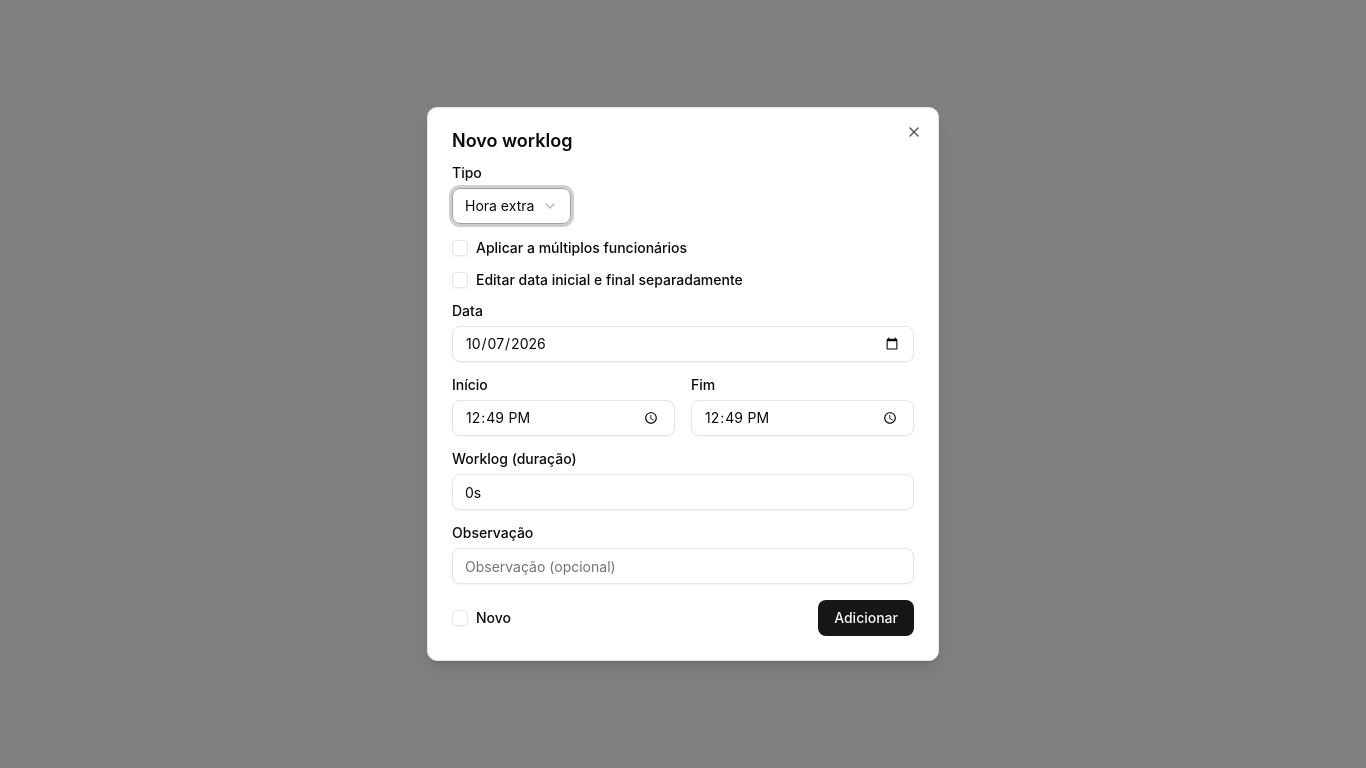
WorkLogFormModal › advanced mode (datetime-local inputs) › recalculates the end date input when the duration text field changes (debounced)
Click the 2nd checkbox named "editar data inicial e final separadamente" at (460, 280), box [452, 272, 468, 288]
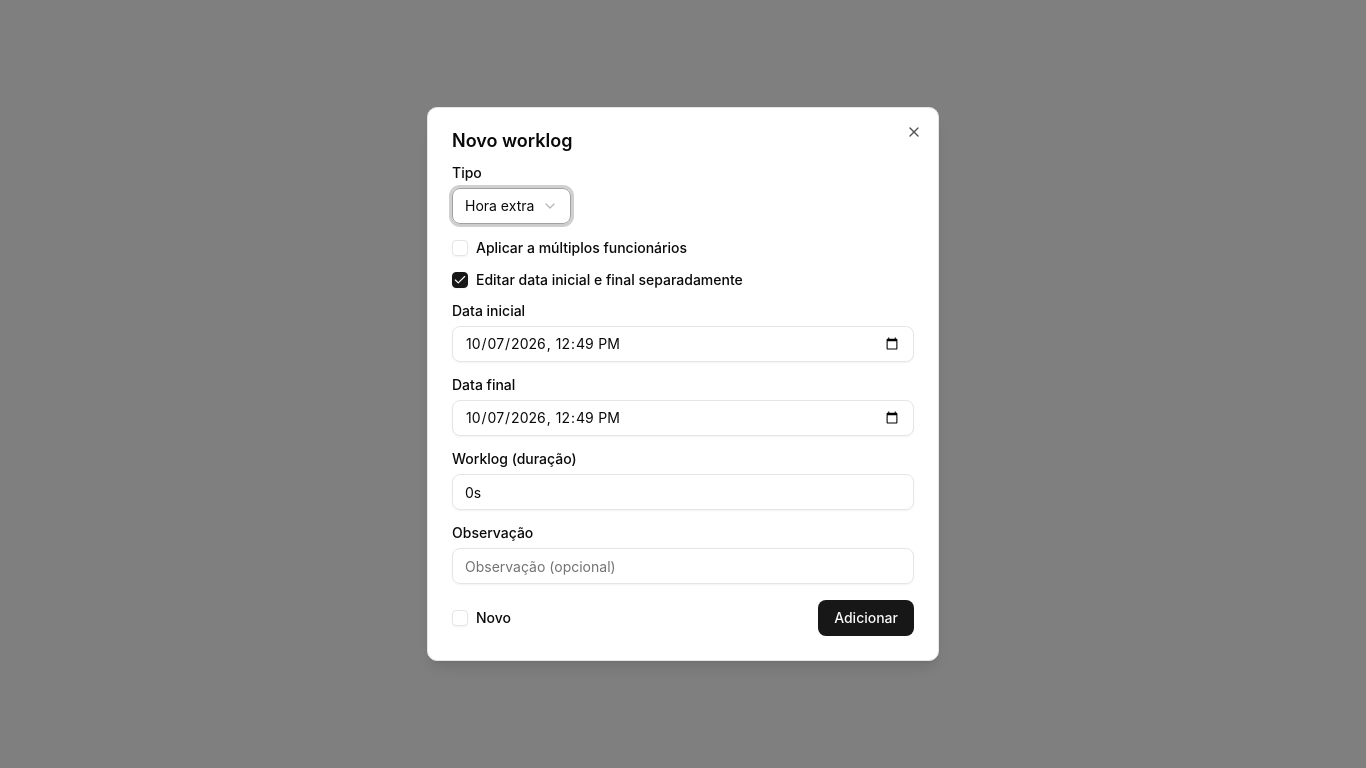
Replace the text in the 1st field with "2026-01-01T08:00" at (683, 344), box [452, 326, 914, 362]
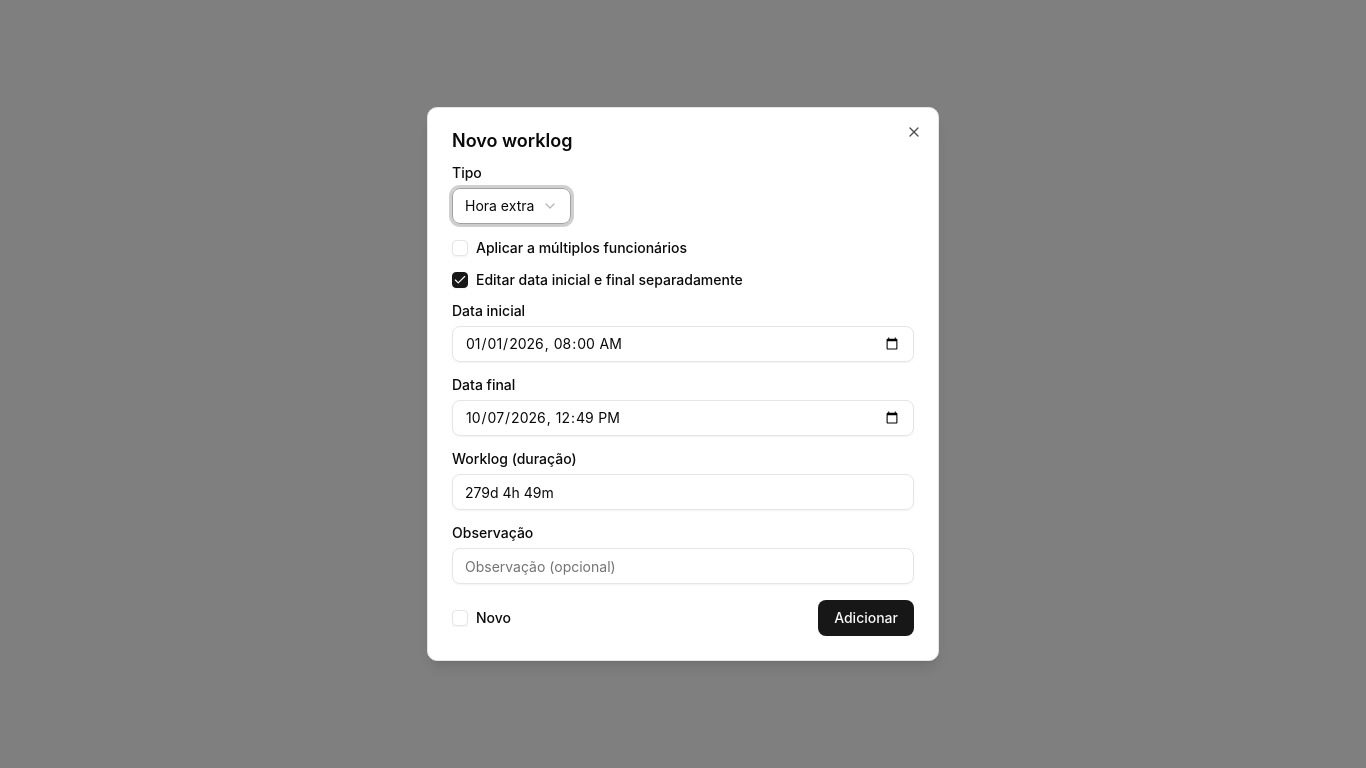
Replace the text in the field below "Data final" with "2026-01-01T08:00" at (683, 418), box [452, 400, 914, 436]
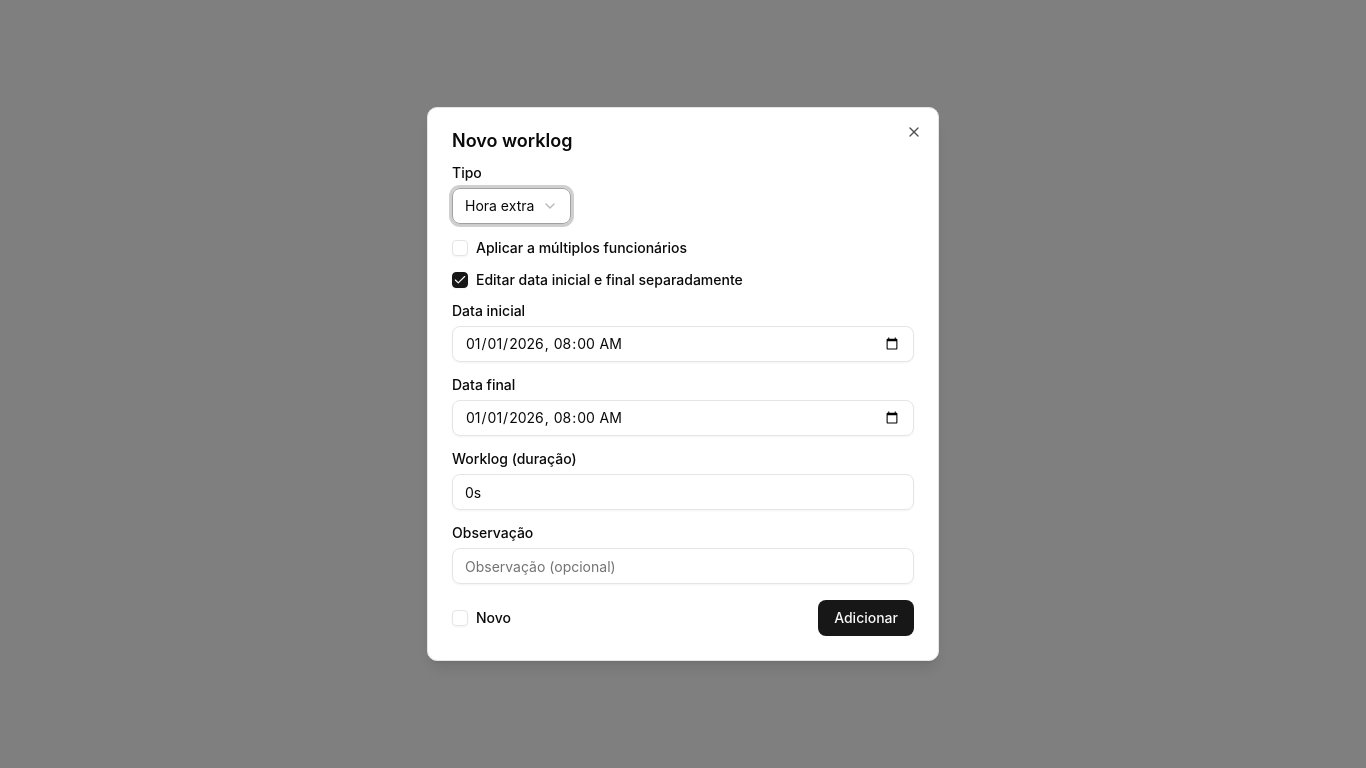
Replace the text in the field with placeholder "Ex.: 1h 30m" below "Worklog (duração)" with "2h" at (683, 492), box [452, 474, 914, 510]
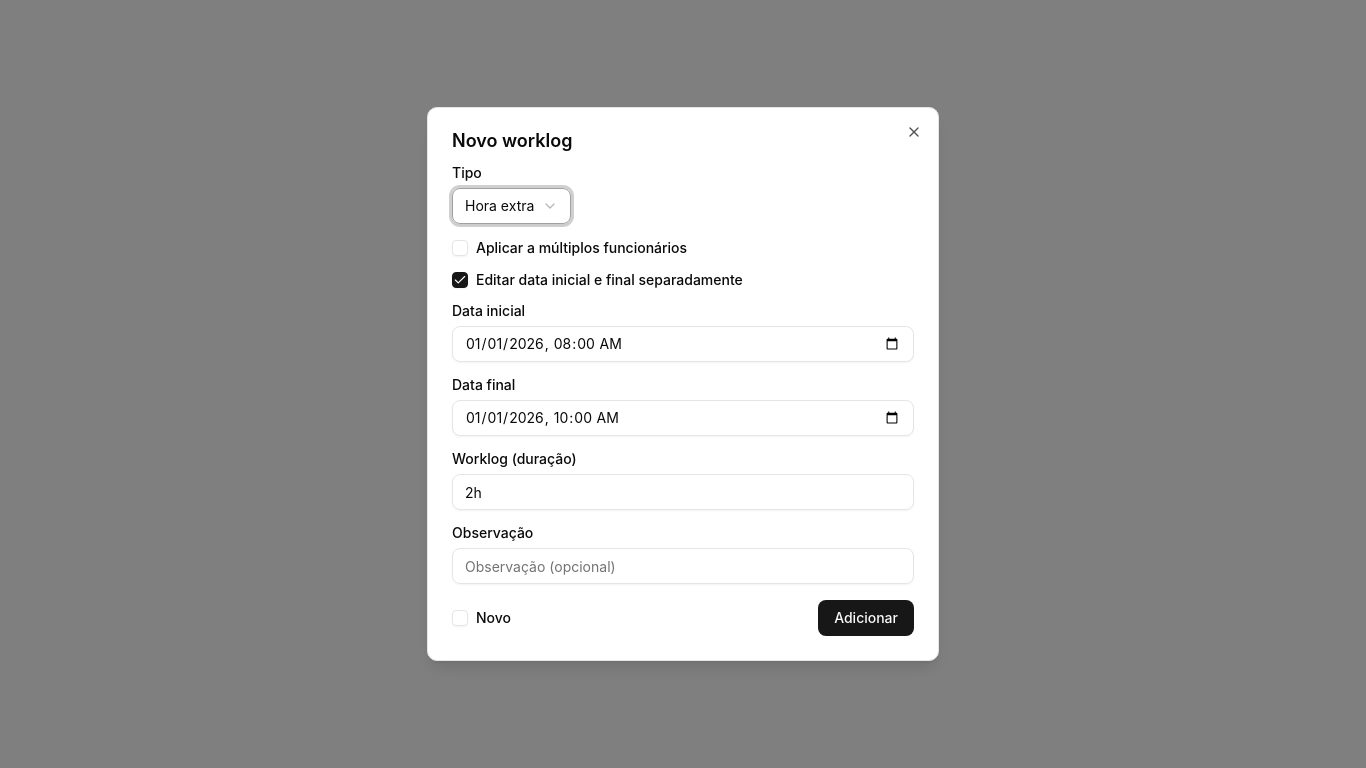
Result: the field below "Data final" holds "2026-01-01T10:00" at [452, 400, 914, 436]
